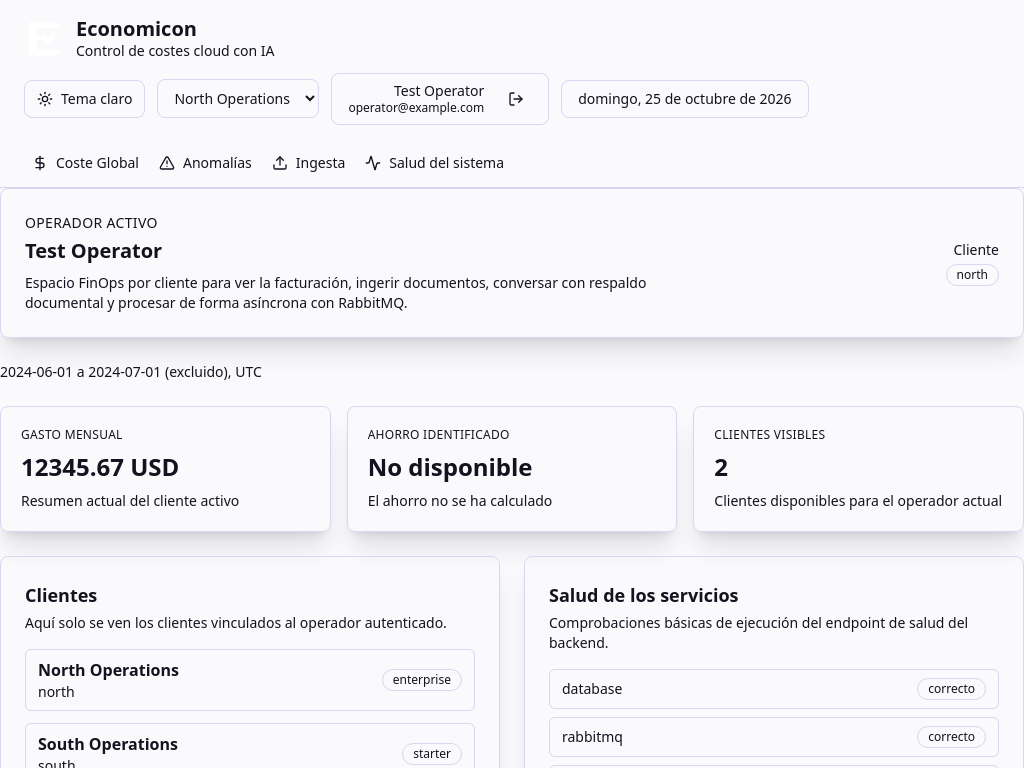
Test: tenant bootstrap and dashboard › replaces a stale tenant selection and scopes billing requests to each selected tenant
Expected: the text "12345.67 USD" is shown, [21,450,179,482]
Select "South Operations" in the dropdown named "Ámbito de cliente" at (238, 99), box [158,79,320,118]
(page scrolled)
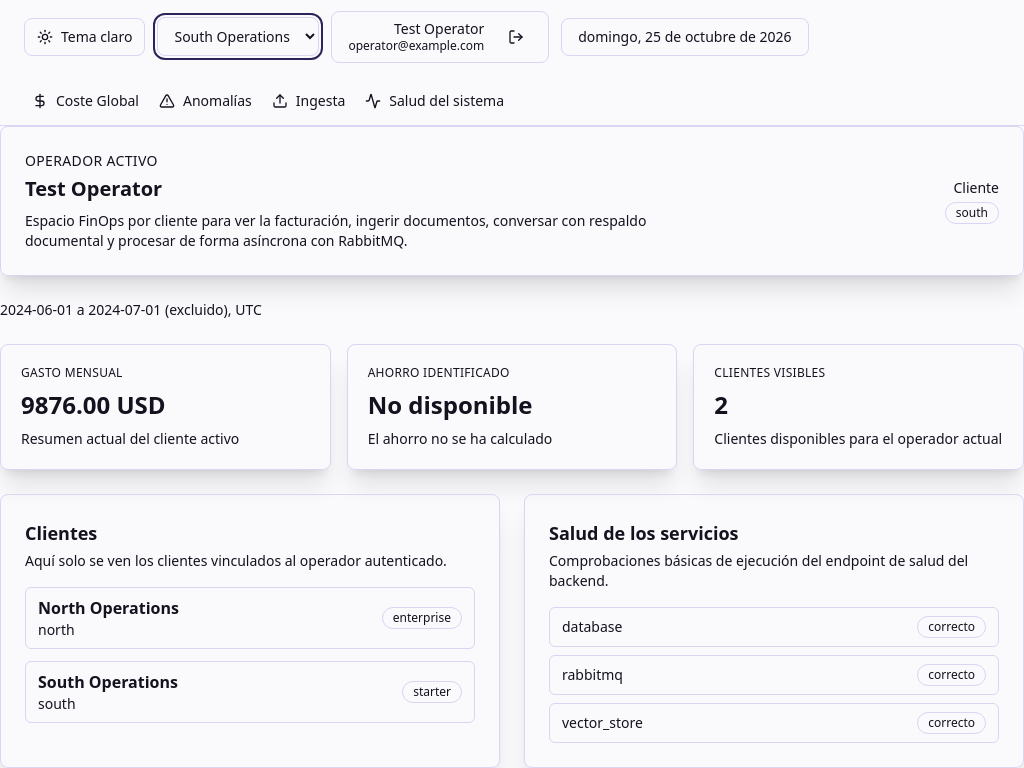
Expected: the heading "Salud de los servicios" is shown, [549,520,738,544]
Expected: the text "9876.00 USD" is shown, [21,388,166,420]
